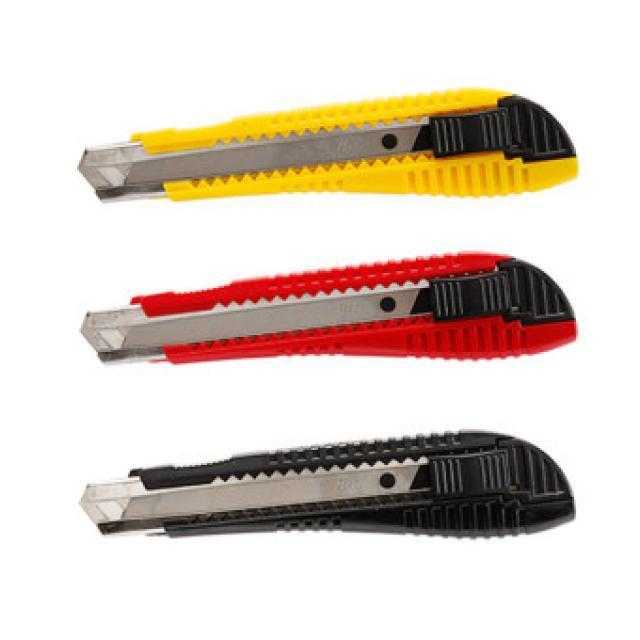cutter: (71, 83, 594, 221), (70, 259, 576, 383)
